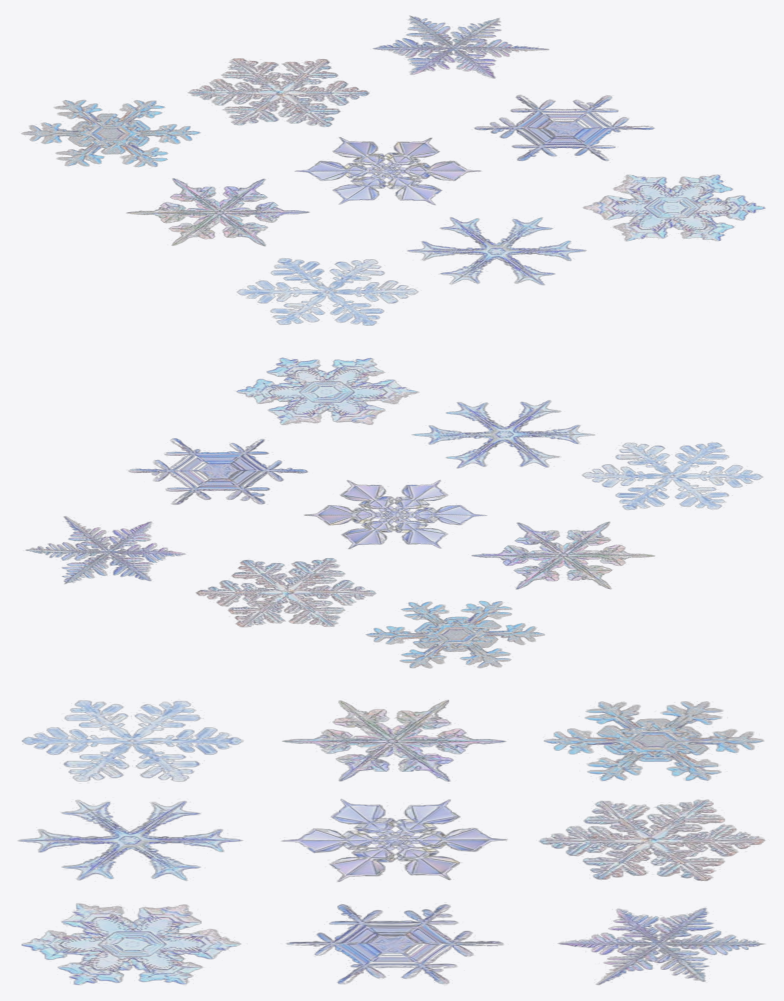
The model's file is snowflakes_lowres.glb.
3 renders of one model, top to bottom at view 1: azimuth 30°, elevation 25°; view 2: azimuth 150°, elevation 25°; view 3: azimuth 270°, elevation 25°, orthographic. The views are drawn at different scales.
Visible parts, largest first — view 1: Circle.008, Circle.001, Circle.004, Circle, Circle.006, Circle.005, Circle.003, Circle.002, Circle.007; view 2: Circle.008, Circle.001, Circle.004, Circle, Circle.006, Circle.005, Circle.003, Circle.002, Circle.007; view 3: Circle.008, Circle.001, Circle.004, Circle, Circle.006, Circle.003, Circle.005, Circle.002, Circle.007.
Part boxes in pixels (x1=…): Circle.008: x1=583, y1=174, x2=764, y2=240; Circle.001: x1=188, y1=58, x2=368, y2=126; Circle.004: x1=295, y1=137, x2=480, y2=204; Circle: x1=21, y1=100, x2=199, y2=166; Circle.006: x1=237, y1=258, x2=418, y2=325; Circle.005: x1=474, y1=95, x2=654, y2=160; Circle.003: x1=127, y1=178, x2=309, y2=246; Circle.002: x1=373, y1=16, x2=548, y2=78; Circle.007: x1=407, y1=217, x2=585, y2=284; Circle.008: x1=236, y1=357, x2=418, y2=424; Circle.001: x1=196, y1=558, x2=375, y2=626; Circle.004: x1=304, y1=480, x2=486, y2=548; Circle: x1=366, y1=601, x2=544, y2=668; Circle.006: x1=582, y1=442, x2=762, y2=509; Circle.005: x1=129, y1=438, x2=307, y2=504; Circle.003: x1=472, y1=522, x2=654, y2=589; Circle.002: x1=26, y1=516, x2=184, y2=583; Circle.007: x1=412, y1=400, x2=594, y2=468; Circle.008: x1=21, y1=903, x2=240, y2=984; Circle.001: x1=539, y1=799, x2=764, y2=880; Circle.004: x1=282, y1=799, x2=506, y2=881; Circle: x1=544, y1=701, x2=763, y2=780; Circle.006: x1=22, y1=700, x2=242, y2=781; Circle.003: x1=282, y1=700, x2=505, y2=781; Circle.005: x1=286, y1=904, x2=502, y2=983; Circle.002: x1=558, y1=908, x2=763, y2=984; Circle.007: x1=18, y1=800, x2=242, y2=880.
Size of the model in its own units: 5.83 by 0 by 6.45.
1 material, 1 textured.
